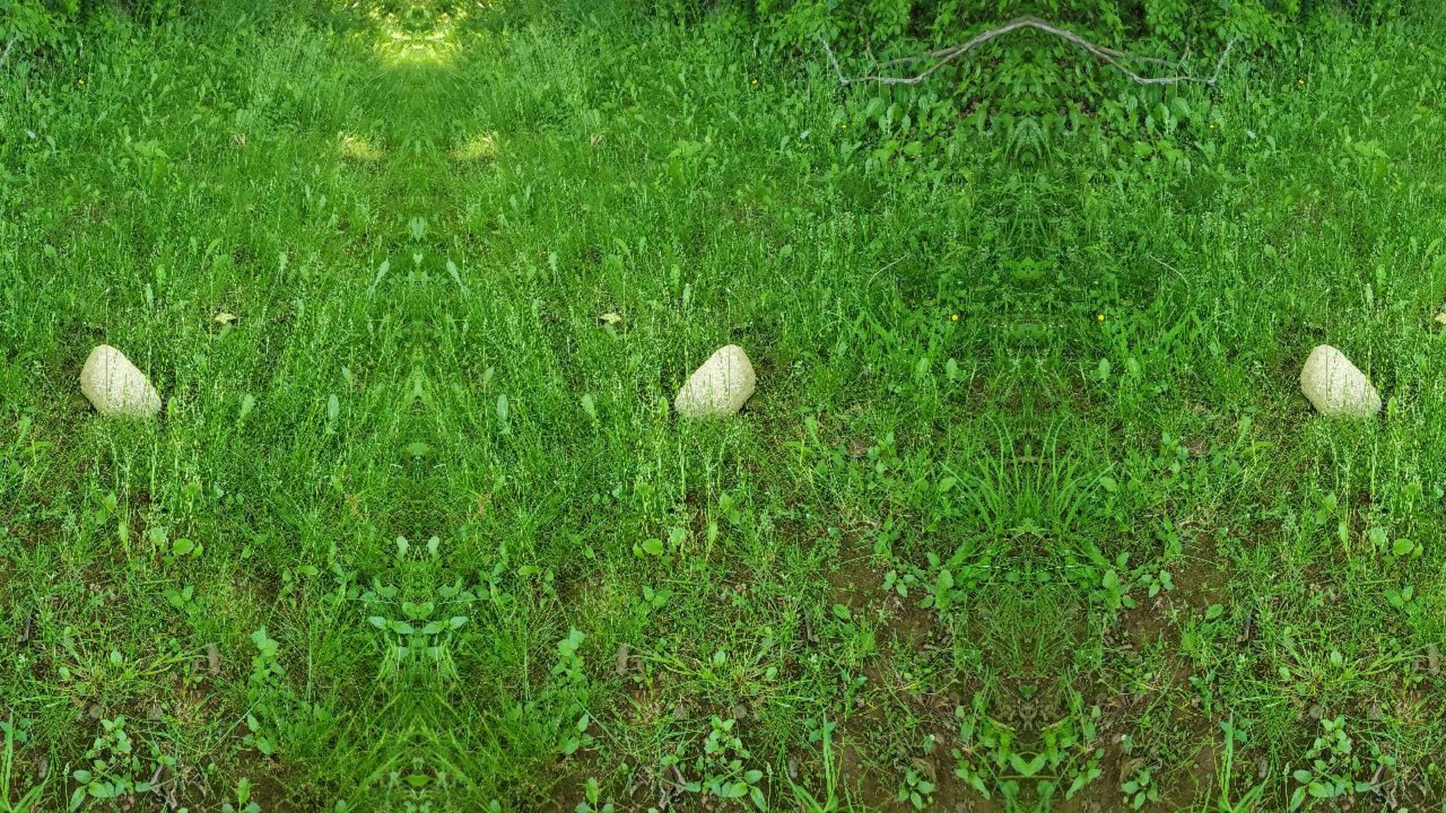rock: (674, 344, 755, 418), (1300, 344, 1379, 417), (80, 346, 159, 417)
